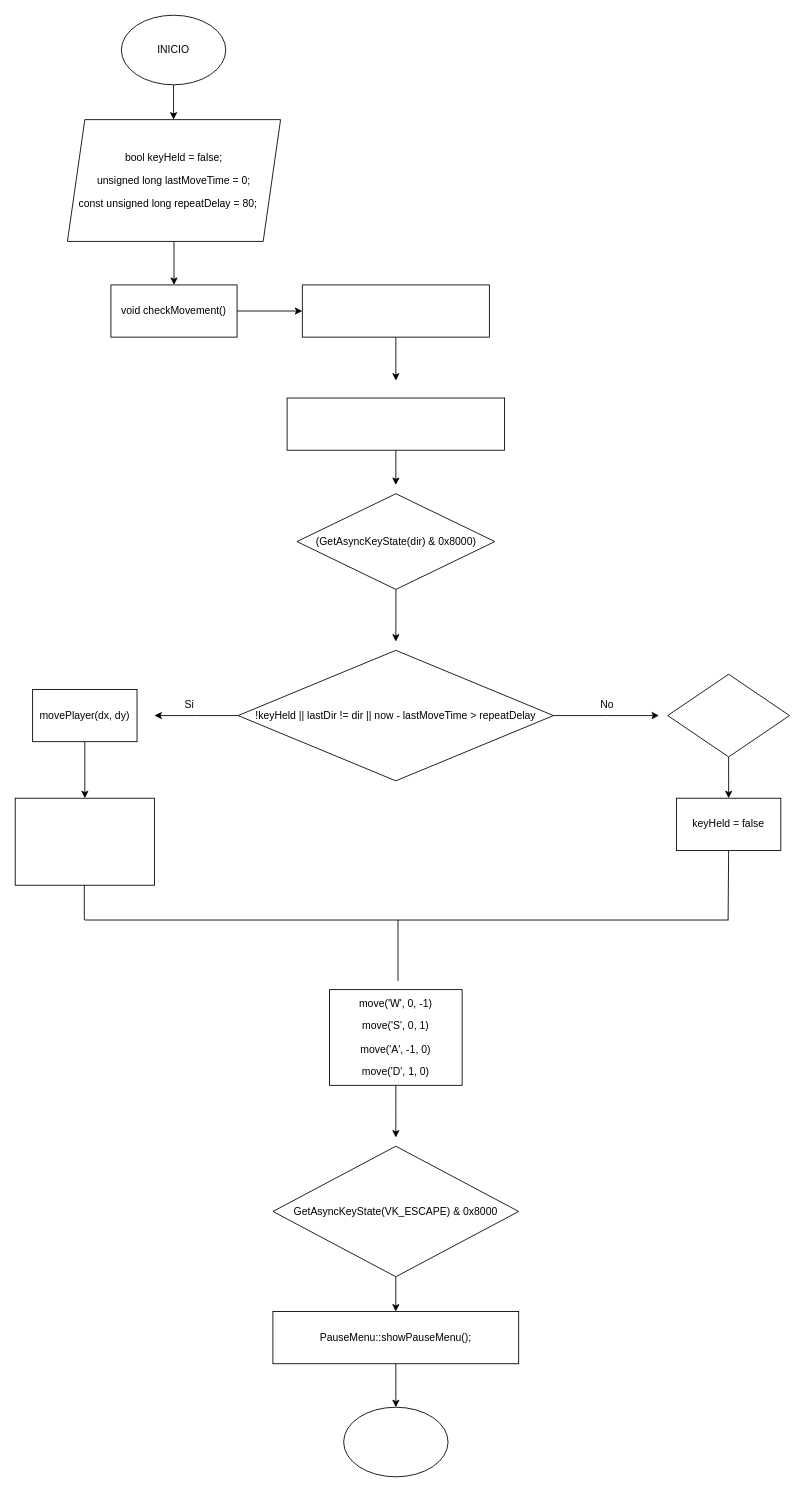
The diagram is 805 pixels wide and 1492 high, and some of its shapes have lost their labels. Here are the shapes that lost their labels. From the top down, the centre of each, then its label:
At (x=395, y=310): "static int lastDir = 0 unsigned long now = GetTickCount ()".
At (x=395, y=423): "auto move = [&](int dir , int dx, int dy ) (lambda)".
At (x=728, y=715): "lastDir == dir".
At (x=84, y=841): "lastMoveTime = now keyHeld = true lastDir = dir".
At (x=395, y=1441): "END".
